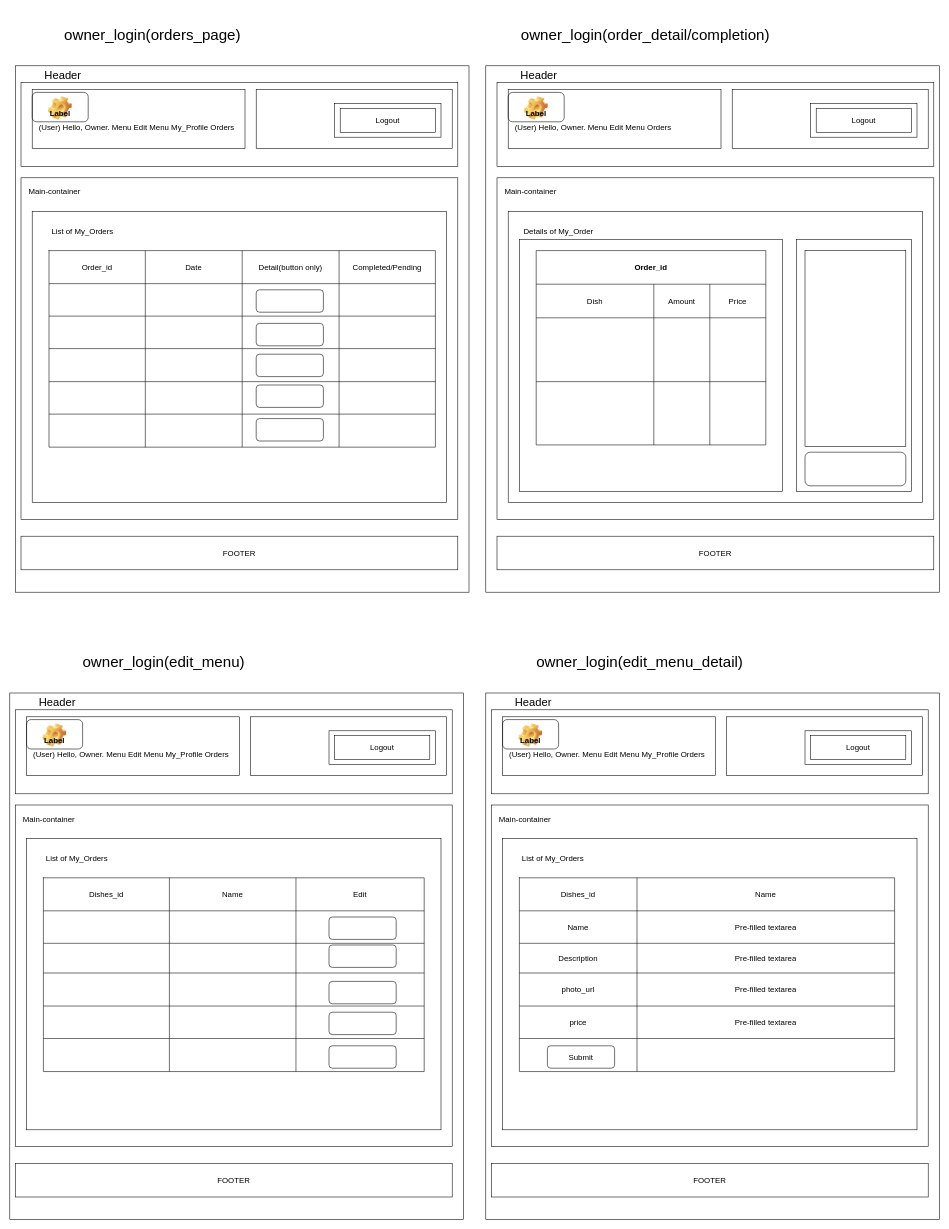
Some shapes in this 949 by 1229 pixel diagram are drawn without their labels. Each missing label, with the centre of its shape:
"Bill SubTotal Taxes Total Amount" belongs at (x=855, y=348).
"Completed (onclick send data to database and Twilio, then back to orders page)" belongs at (x=855, y=469).
